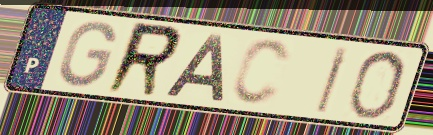A: (160, 31, 225, 103)
C: (228, 37, 294, 109)
G: (57, 19, 119, 90)
I: (312, 44, 353, 115)
O: (344, 49, 409, 122)
R: (101, 19, 185, 100)
